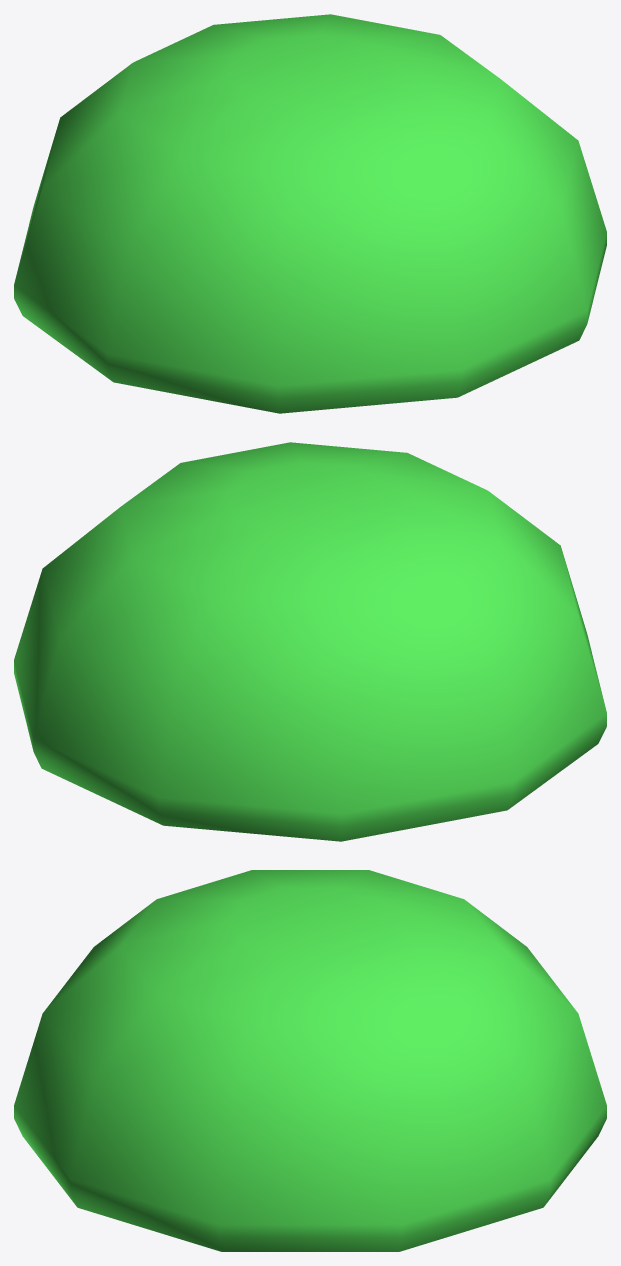
The model's file is Bush_A.fbx.
3 views of the same model, one above another, from view 1: azimuth 30°, elevation 25°; view 2: azimuth 150°, elevation 25°; view 3: azimuth 270°, elevation 25° (orthographic). The views are drawn at different scales.
Visible parts, largest first — view 1: Bush_A; view 2: Bush_A; view 3: Bush_A.
Part boxes in pixels (x1=…): Bush_A: x1=14, y1=14, x2=606, y2=413; Bush_A: x1=14, y1=442, x2=606, y2=841; Bush_A: x1=14, y1=870, x2=606, y2=1251.
Bounding box in the file's own units: 141 × 61.24 × 148.
